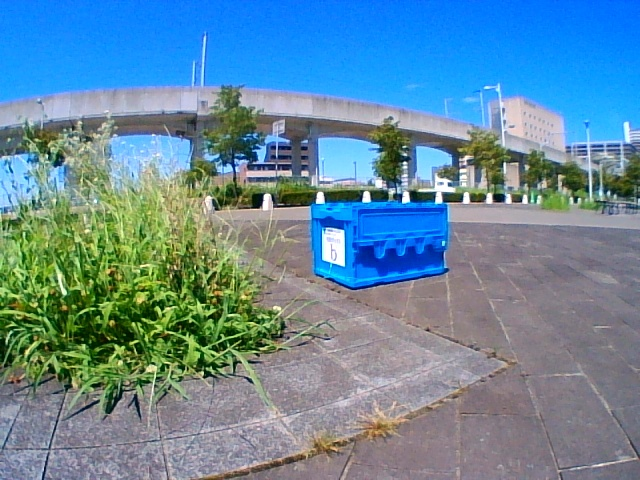blue_box: (312, 202, 449, 288)
tag_b: (325, 232, 342, 262)
